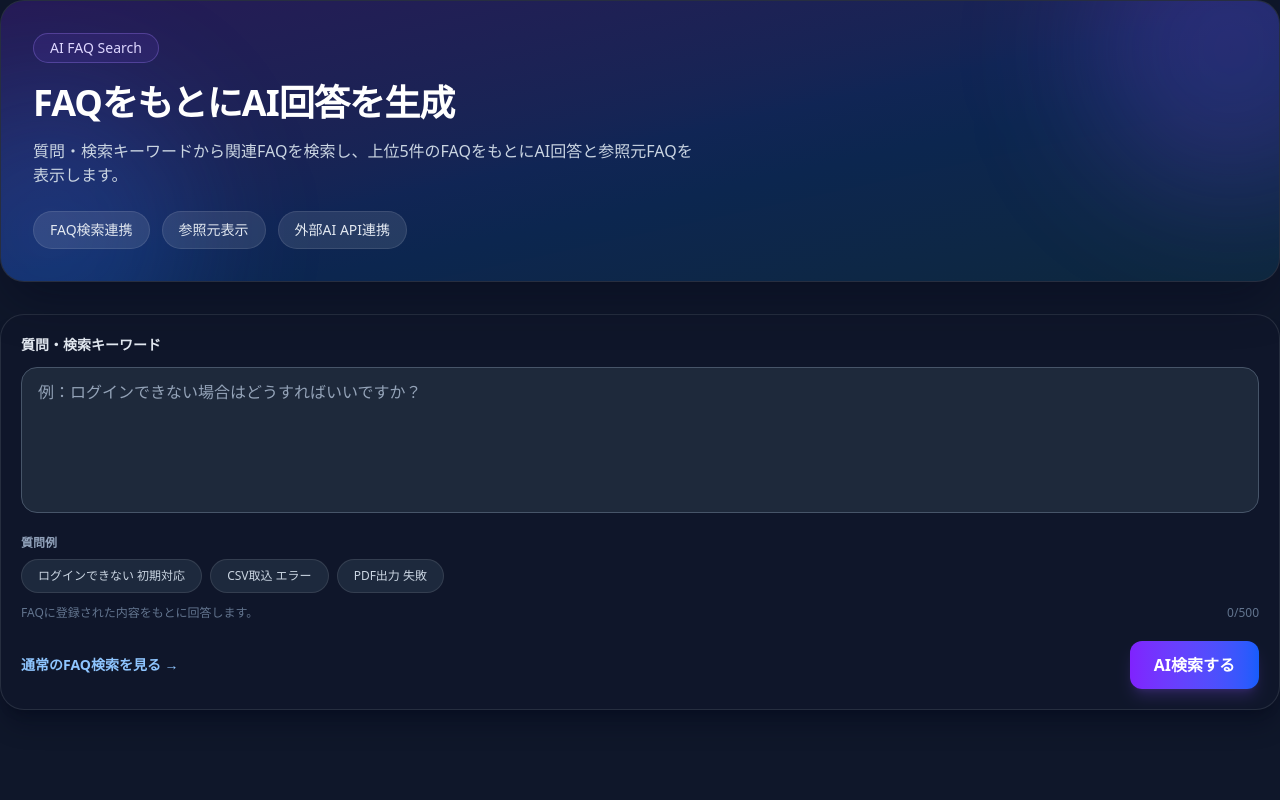
AiSearchPage › 質問例ボタンを押すと入力欄に反映される
What coordinates should you click on to do the following:
click the button "ログインできない 初期対応"
I would click on:
 (112, 576)
Its box is [21, 559, 202, 593].
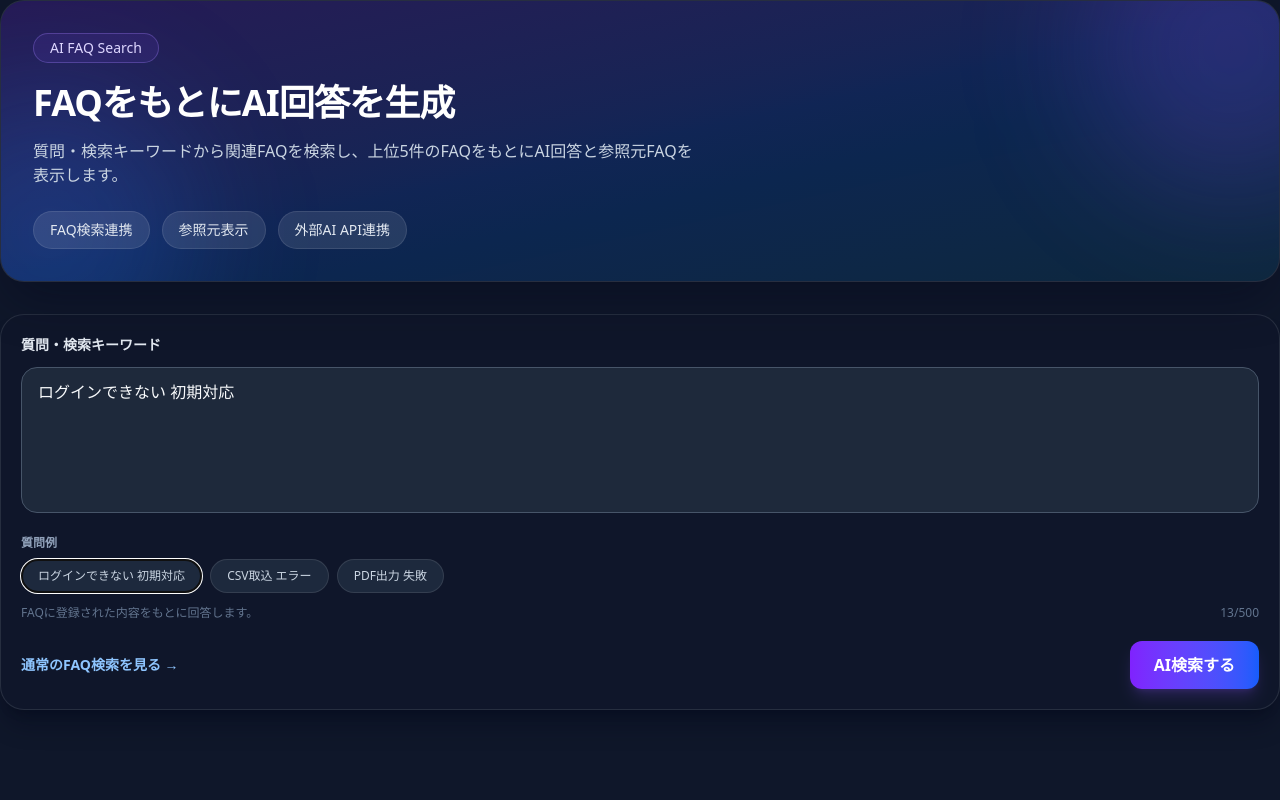
Now the text box with placeholder "例：ログインできない場合はどうすればいいですか？" holds "ログインできない 初期対応", box [21, 367, 1259, 513]
